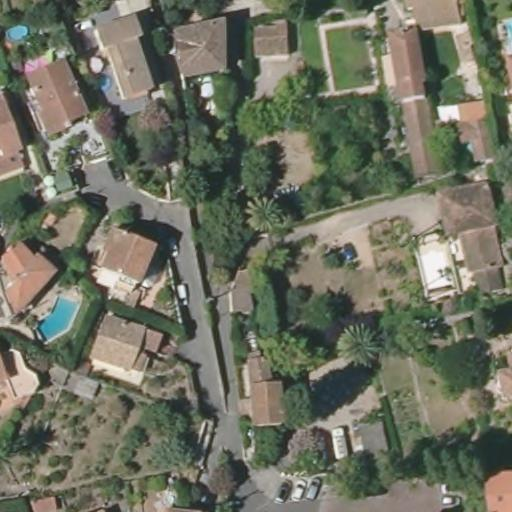pool: (37, 294, 78, 343), (91, 70, 112, 94), (4, 24, 30, 39)
